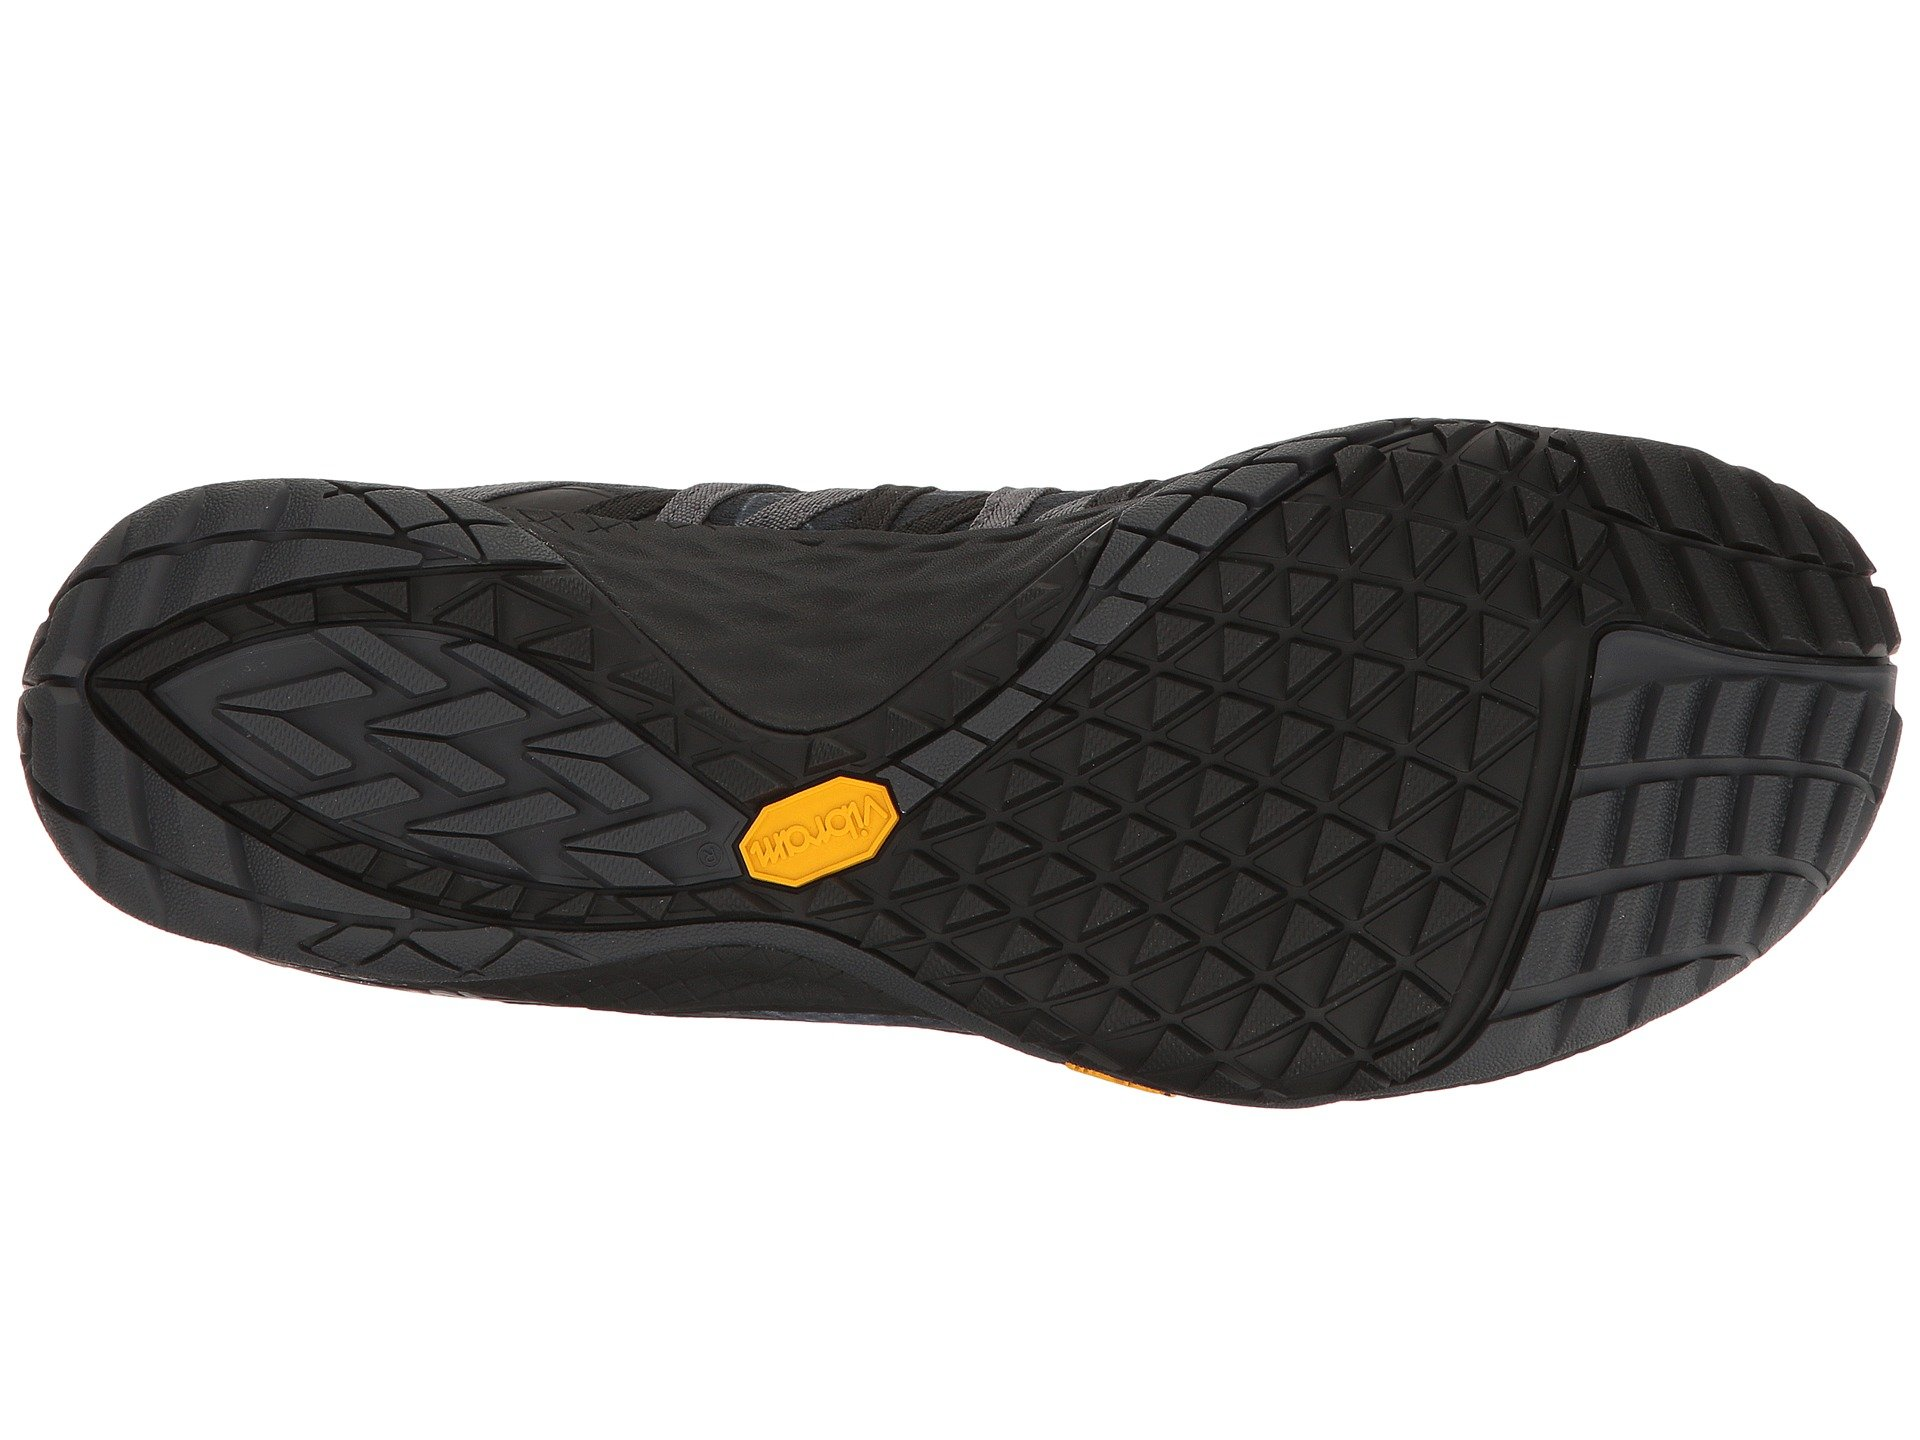circle: (715, 728, 933, 917)
line: (1123, 594, 1485, 1023), (1587, 666, 1788, 957)
polygon: (715, 728, 933, 917)
quad: (190, 629, 644, 883), (1587, 666, 1788, 957)
text: (715, 728, 933, 917)
triangle: (1123, 594, 1485, 1023), (190, 629, 644, 883), (715, 728, 933, 917)
